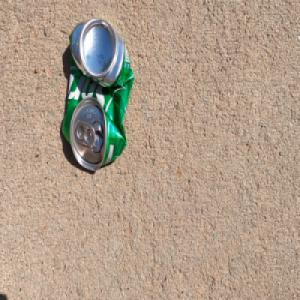SodaCan: (61, 16, 135, 173)
